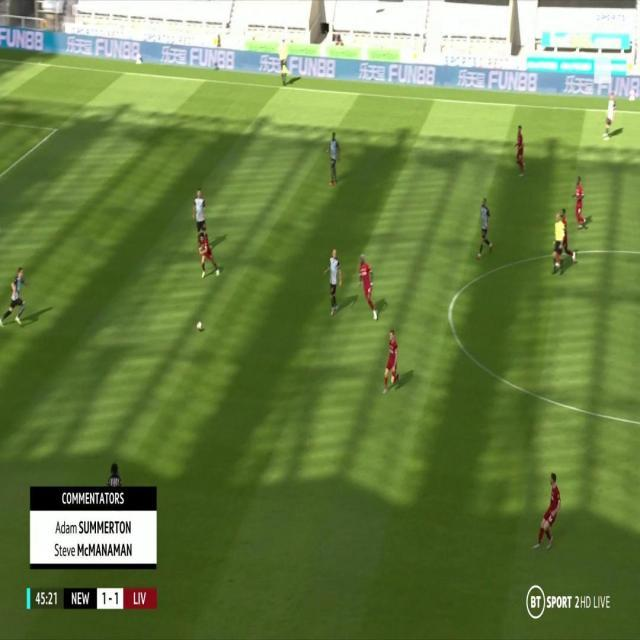ball: (195, 320, 204, 332)
player: (534, 473, 562, 557), (355, 254, 383, 324), (2, 265, 28, 329), (192, 231, 222, 285), (324, 250, 343, 321), (570, 176, 592, 234), (475, 195, 494, 262), (382, 329, 401, 394), (558, 208, 577, 268), (601, 90, 619, 141), (192, 185, 209, 238), (326, 131, 341, 188), (514, 123, 527, 180), (107, 461, 123, 489)
referee: (551, 212, 566, 275), (279, 34, 293, 92)
